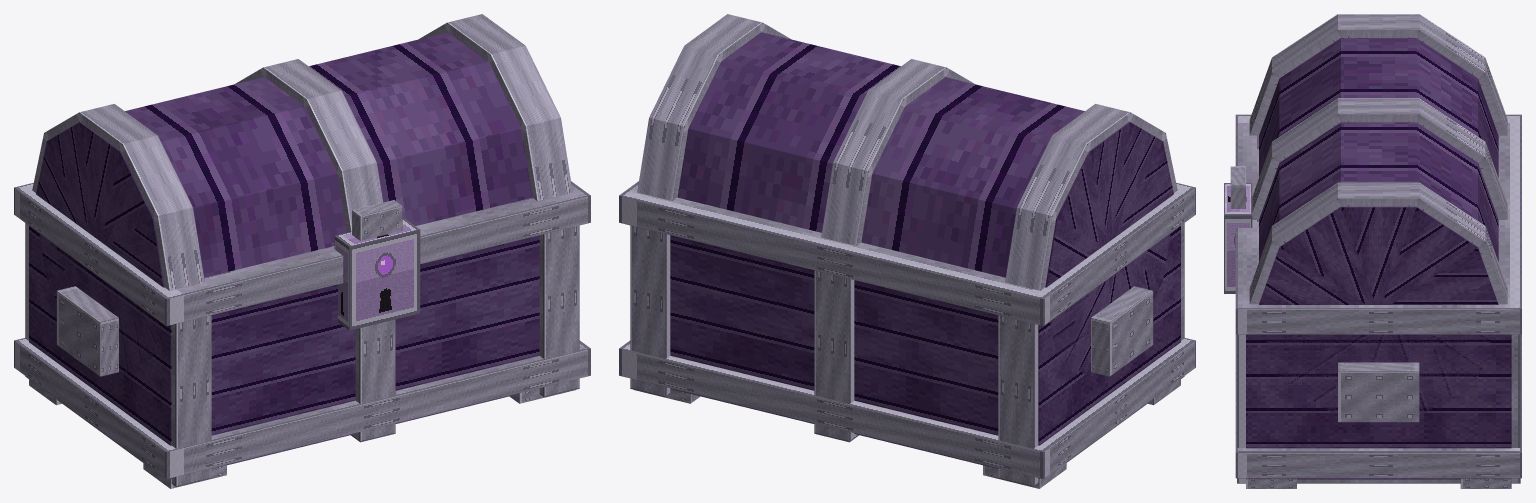
The model's file is bau_de_ametista.glb.
3 renders of one model, left to right at view 1: azimuth 30°, elevation 25°; view 2: azimuth 150°, elevation 25°; view 3: azimuth 270°, elevation 25°, orthographic. The views are drawn at different scales.
Parts seen in each view (by area): view 1: bau_de_ametista; view 2: bau_de_ametista; view 3: bau_de_ametista.
Boxes of the visible parts, left/top/right/bottom form: bau_de_ametista: left=14, top=14, right=590, bottom=488; bau_de_ametista: left=619, top=14, right=1195, bottom=488; bau_de_ametista: left=1224, top=14, right=1521, bottom=488.
Size of the model in its own units: 0.95 by 0.6254 by 0.5825.
1 material, 1 textured.
